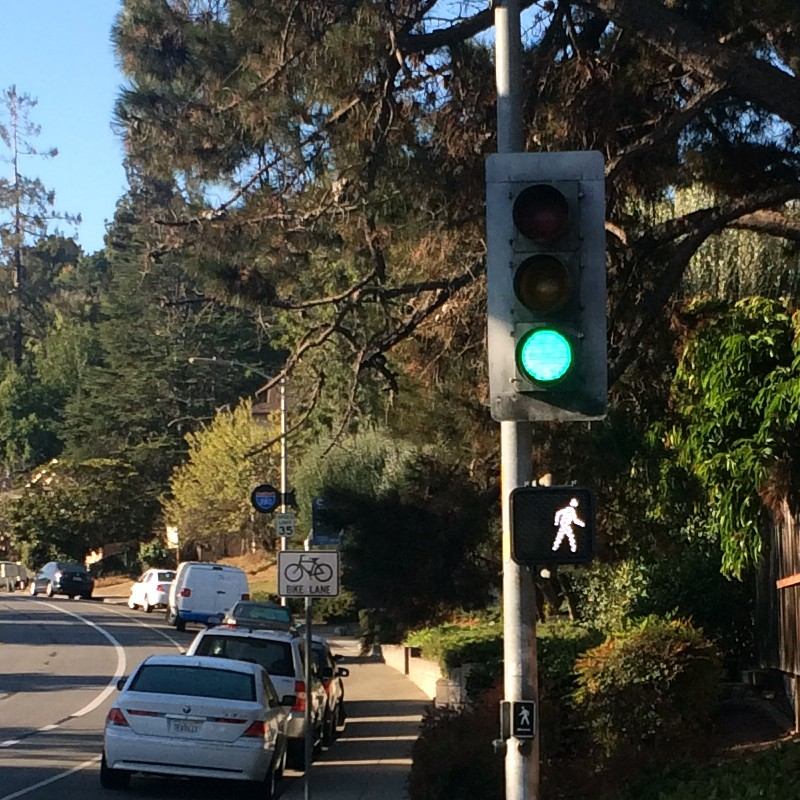go: (501, 483, 604, 568)
